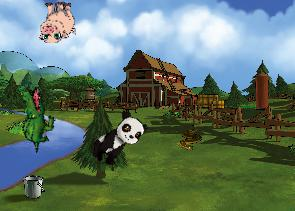crocodile: (6, 84, 65, 153)
panda: (86, 107, 150, 172)
pig: (37, 0, 76, 43)
